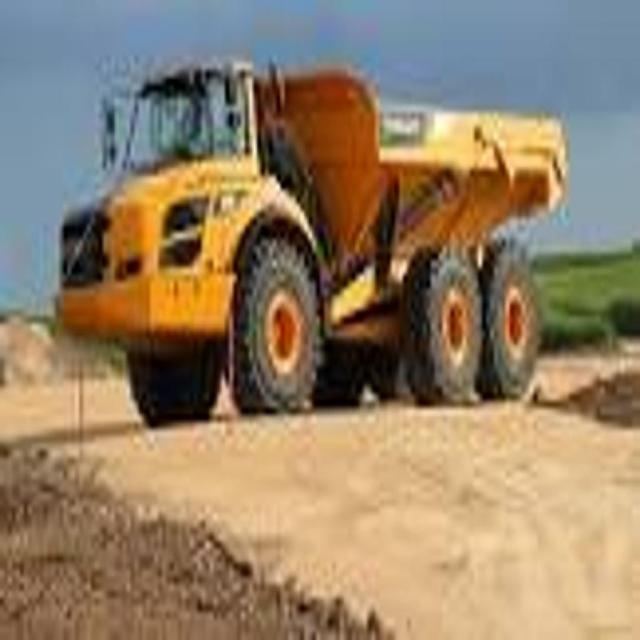dump_truck: (57, 53, 569, 429)
